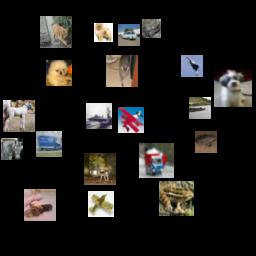airplane: (118, 107, 144, 133), (88, 191, 114, 217), (86, 103, 112, 129), (181, 55, 203, 77)
automobile: (118, 24, 140, 46)
cat: (40, 16, 72, 48), (106, 55, 138, 87)
deer: (84, 153, 116, 185)
dog: (214, 69, 252, 107), (24, 189, 56, 221), (46, 60, 72, 86), (94, 23, 113, 42)
frog: (159, 181, 194, 216), (195, 131, 217, 153), (142, 19, 161, 38)
ship: (189, 97, 211, 119)
truck: (139, 143, 174, 178), (36, 131, 62, 157)
